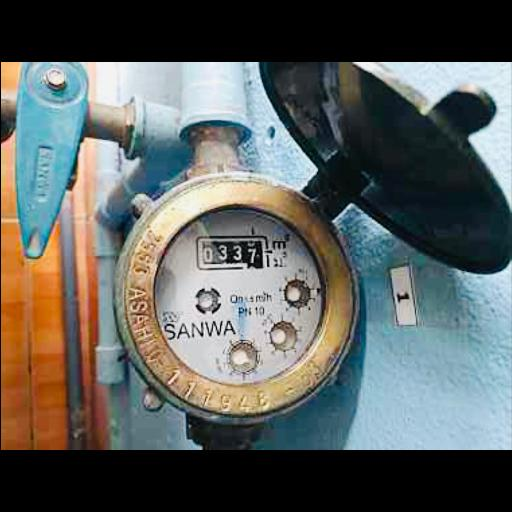0: (200, 242, 216, 266)
3: (230, 241, 246, 263), (216, 242, 230, 265)
7: (247, 241, 263, 269)
border_water_meter_number: (195, 234, 269, 270)
